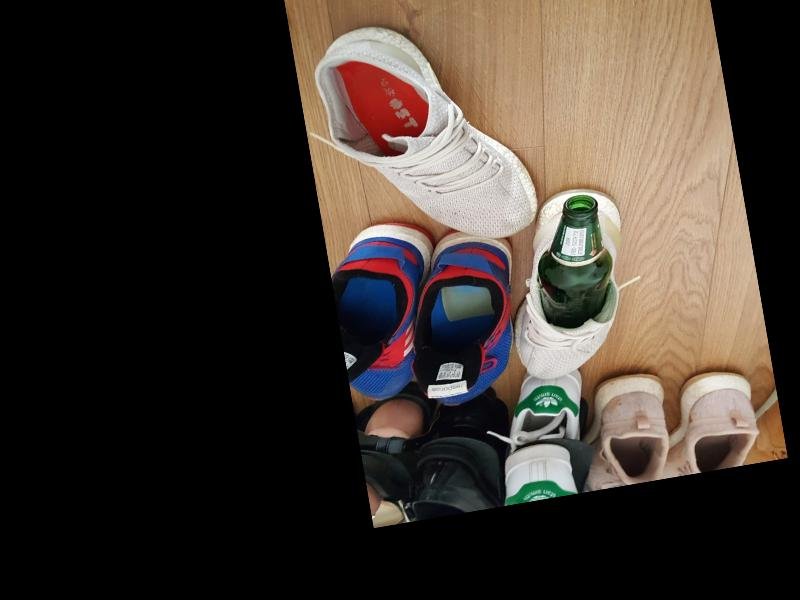Beer: (523, 191, 621, 331)
